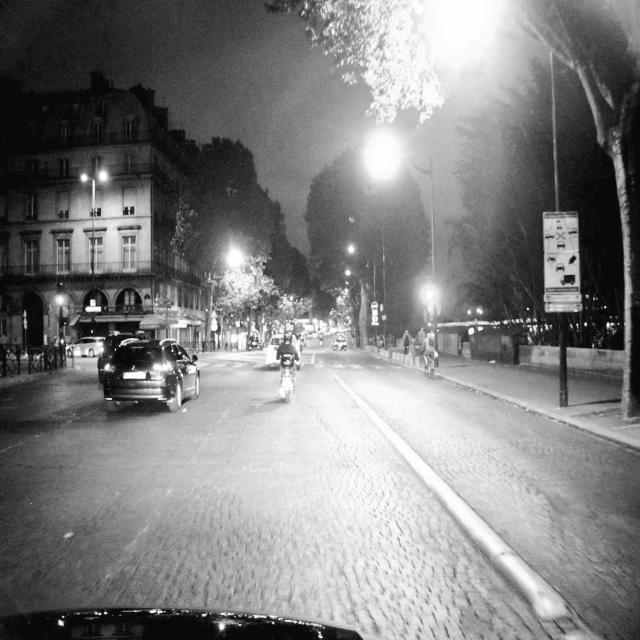Sign: (543, 211, 579, 313)
Tree: (578, 3, 640, 421)
